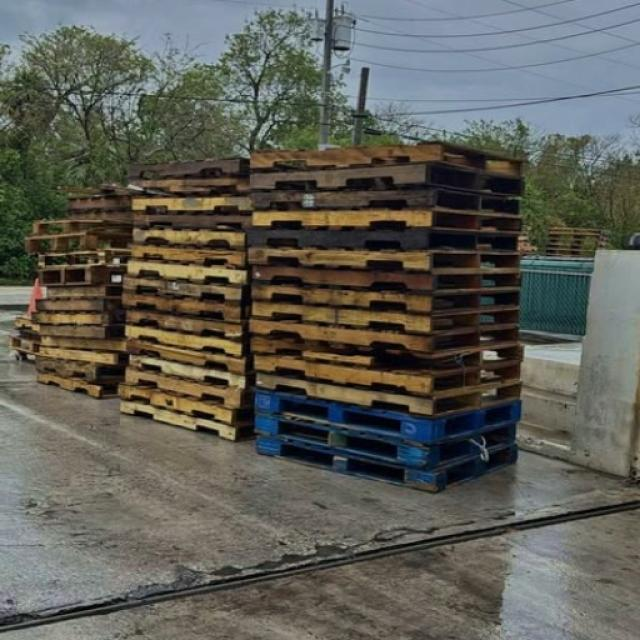non-igps: (253, 427, 522, 497), (250, 406, 520, 475), (248, 383, 526, 449), (251, 349, 526, 403), (253, 370, 526, 424), (245, 330, 527, 382), (245, 137, 528, 186), (246, 313, 523, 357), (248, 295, 524, 339), (246, 158, 528, 201), (247, 179, 523, 222), (248, 276, 524, 318), (250, 200, 527, 239), (244, 220, 523, 256), (248, 260, 524, 295), (246, 242, 525, 276), (117, 394, 264, 446), (115, 380, 260, 432), (121, 363, 260, 414), (121, 333, 261, 380), (126, 349, 261, 393), (123, 320, 245, 366), (123, 306, 248, 349), (119, 288, 247, 329), (119, 270, 243, 308), (123, 257, 251, 290), (123, 241, 251, 274), (129, 223, 250, 256), (126, 152, 254, 183), (21, 226, 136, 258), (33, 352, 127, 388), (126, 174, 253, 200), (127, 208, 255, 233), (34, 368, 126, 402), (127, 194, 257, 218), (31, 244, 135, 273), (34, 260, 130, 290), (28, 215, 136, 241), (30, 308, 129, 331), (35, 320, 130, 342), (38, 334, 131, 356), (37, 344, 122, 368), (33, 295, 130, 315), (44, 280, 126, 302), (62, 190, 135, 214), (60, 207, 136, 228), (5, 332, 44, 357), (11, 312, 42, 335), (541, 247, 597, 259), (547, 222, 601, 234), (547, 232, 601, 239), (544, 243, 597, 250), (545, 238, 598, 244)
